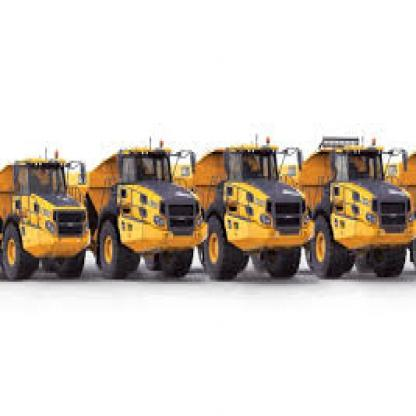dump_truck: (201, 128, 323, 299), (75, 132, 204, 273), (312, 134, 414, 291), (0, 132, 90, 279)
